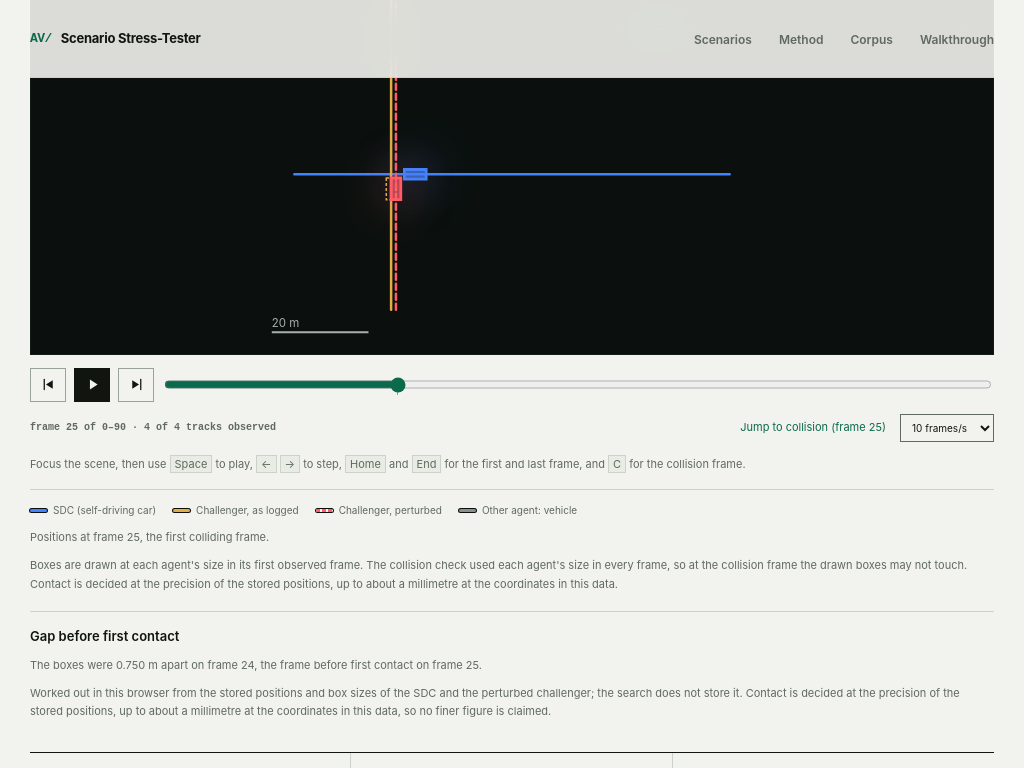
Test: playback — scrubbing and stepping › steps one frame each way, pausing, and stops at the ends
(page scrolled)
Expected: the text "frame 25 of 0–90 · 4 of 4 tracks observed" is shown, x1=30 y1=420 x2=276 y2=435
Click the button named "Play" at (92, 385), box x1=74 y1=368 x2=110 y2=402
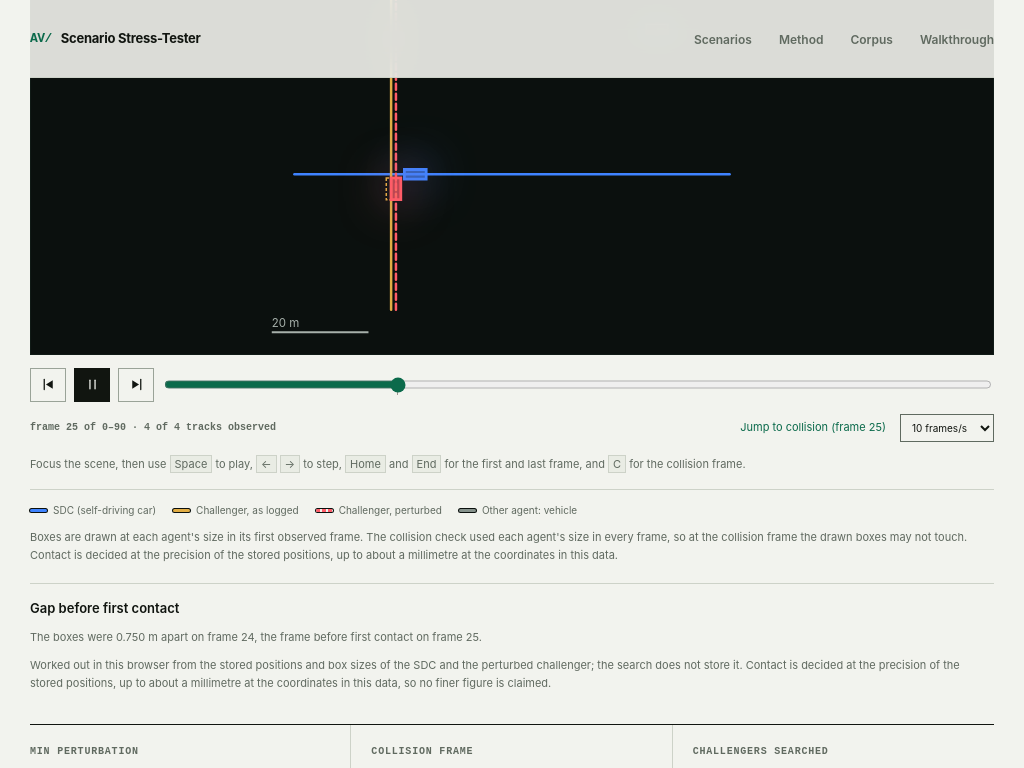
Click the button named "Step forward one frame" at (136, 385), box x1=118 y1=368 x2=154 y2=402
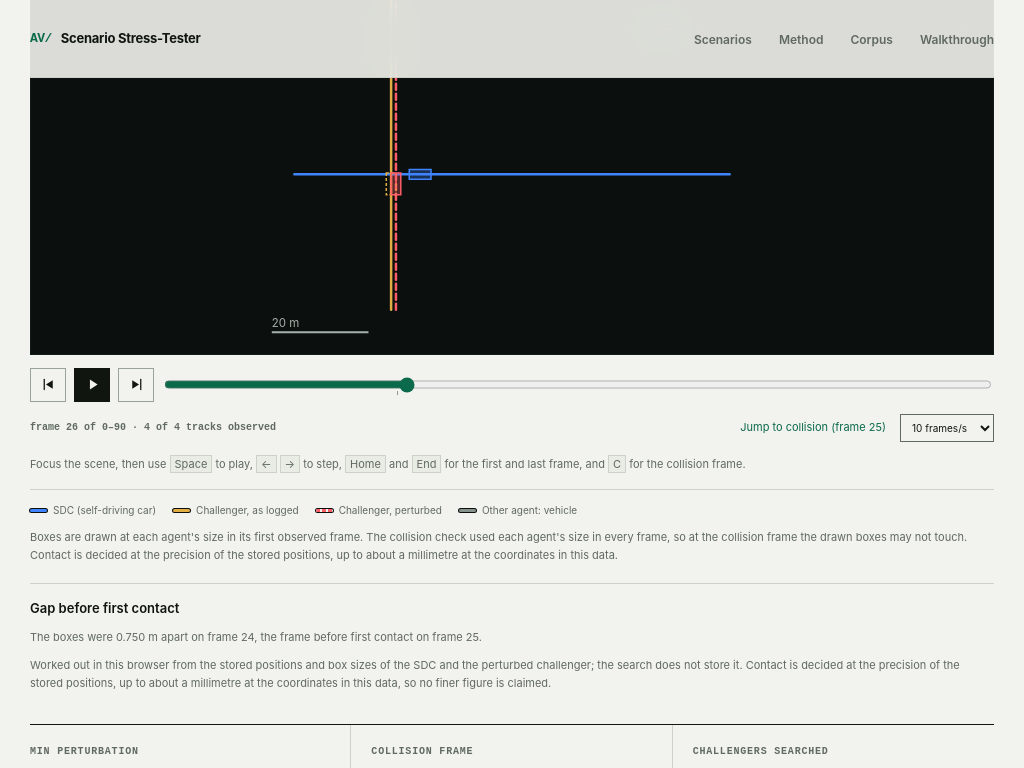
Click the button named "Step back one frame" at (48, 385), box x1=30 y1=368 x2=66 y2=402
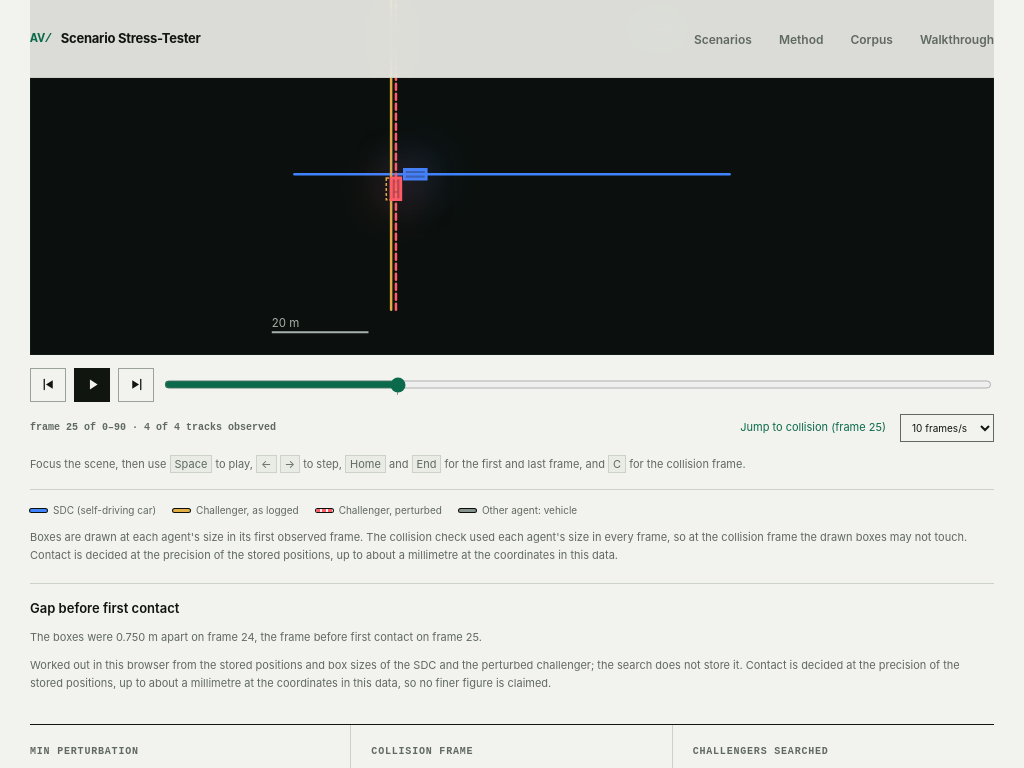
Set the slider named "Frame" to "0" at (172, 385), box x1=164 y1=372 x2=992 y2=397
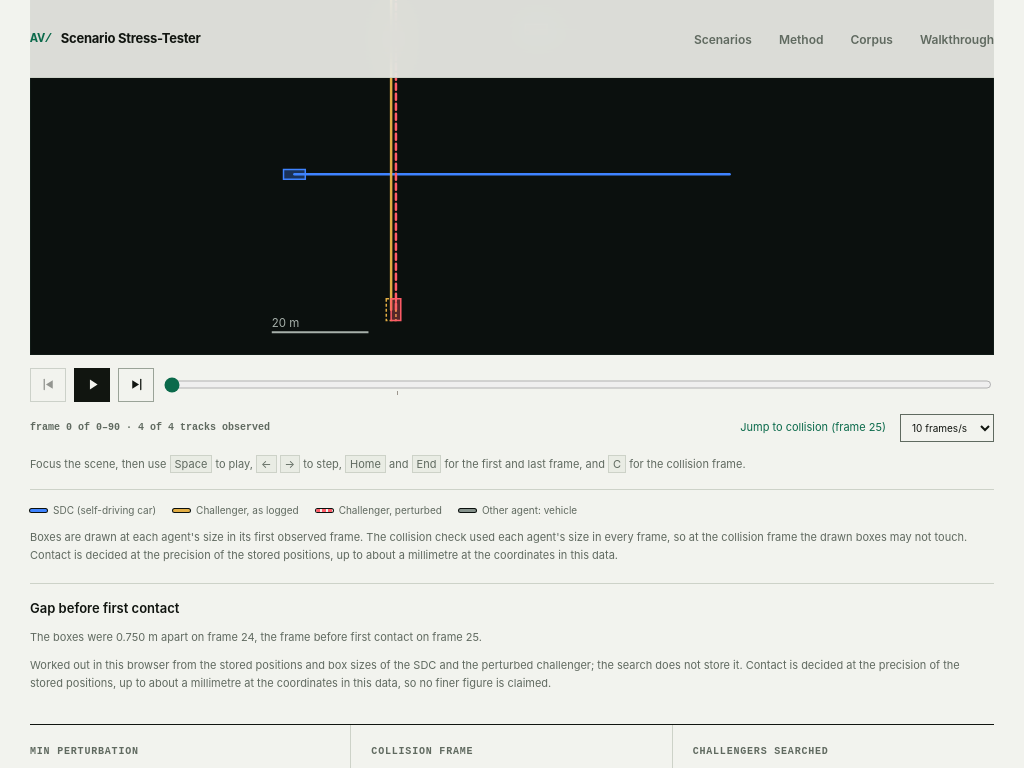
Expected: the button named "Step back one frame" is disabled, x1=30 y1=368 x2=66 y2=402
Set the slider named "Frame" to "90" at (984, 385), box x1=164 y1=372 x2=992 y2=397
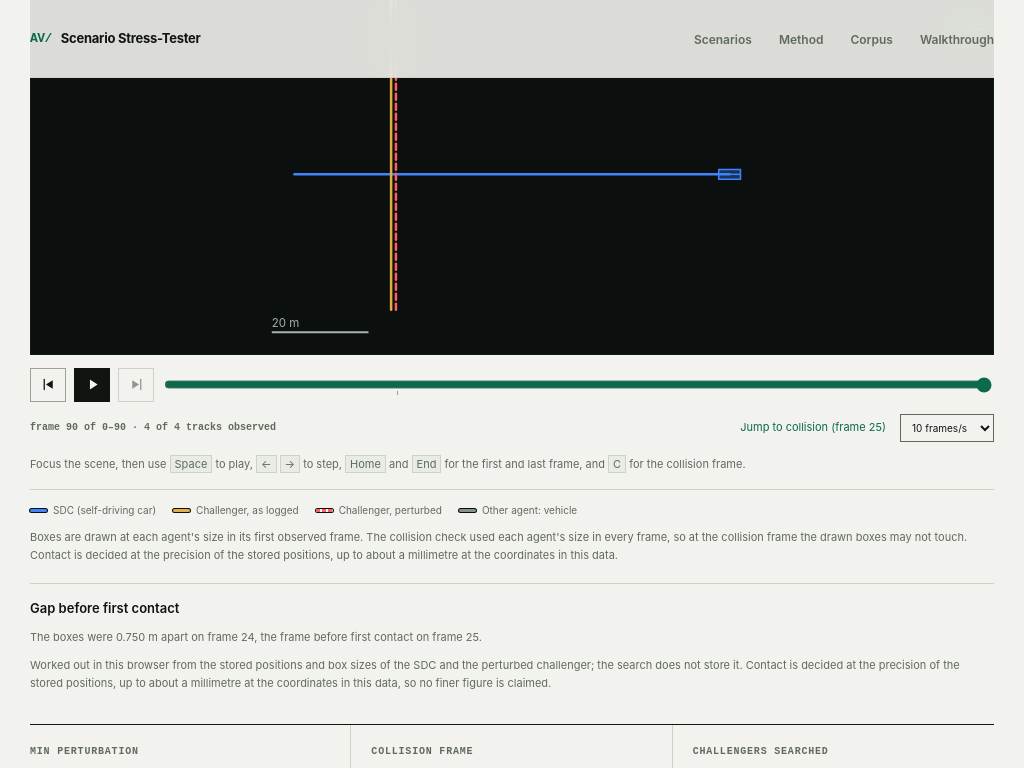
Expected: the button named "Step forward one frame" is disabled, x1=118 y1=368 x2=154 y2=402
